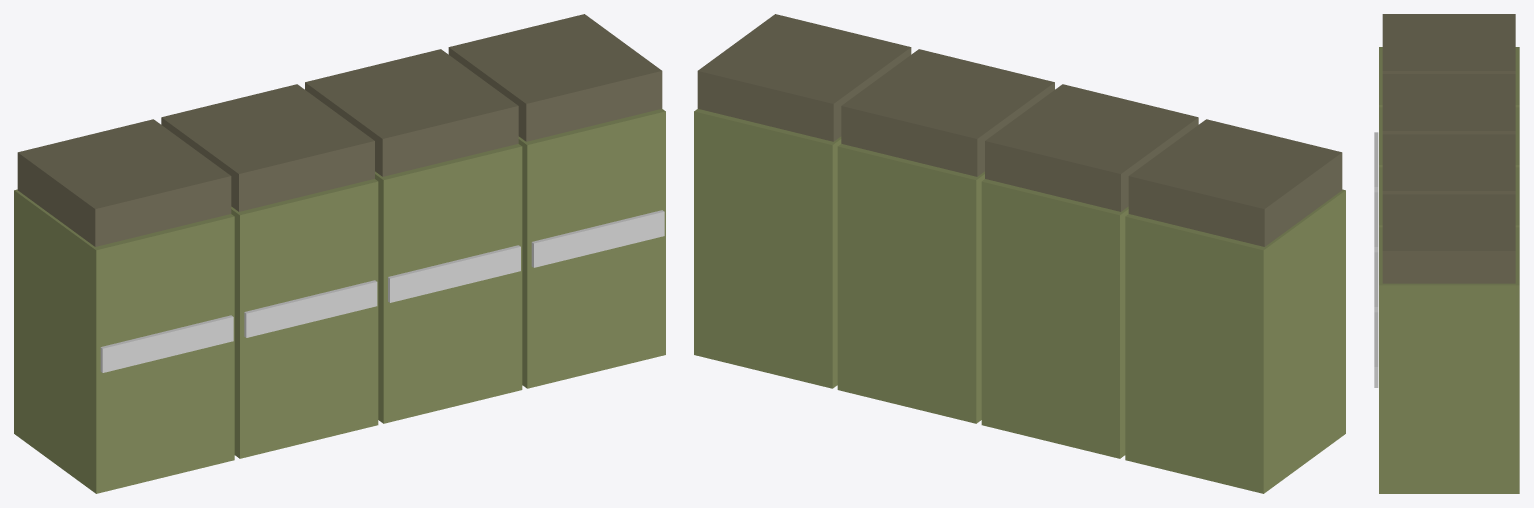
File: SM_HescoCorto4_v3_RemateSacos_e0_Sano_LOD1.fbx
3 views of the same model, side by side, from view 1: azimuth 30°, elevation 25°; view 2: azimuth 150°, elevation 25°; view 3: azimuth 270°, elevation 25° (orthographic). The views are drawn at different scales.
Visible parts, largest first — view 1: SM_hesco_piezas_v112_LOD1; view 2: SM_hesco_piezas_v112_LOD1; view 3: SM_hesco_piezas_v112_LOD1.
Part boxes in pixels (box(x1,y1,x2,y2)): SM_hesco_piezas_v112_LOD1: box(14, 14, 665, 493); SM_hesco_piezas_v112_LOD1: box(694, 14, 1345, 493); SM_hesco_piezas_v112_LOD1: box(1374, 14, 1519, 493).
Size of the model in its own units: 4.4 by 2.09 by 1.13.
